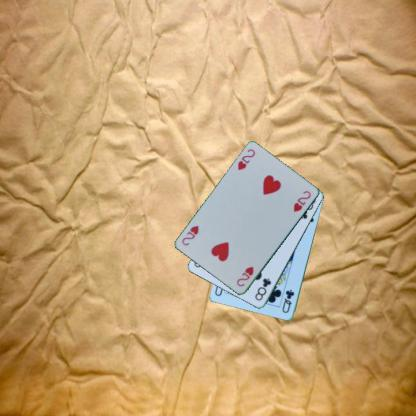2h: (235, 146, 257, 172), (234, 264, 255, 288)
8c: (252, 276, 272, 302)
Qc: (280, 287, 296, 314)
